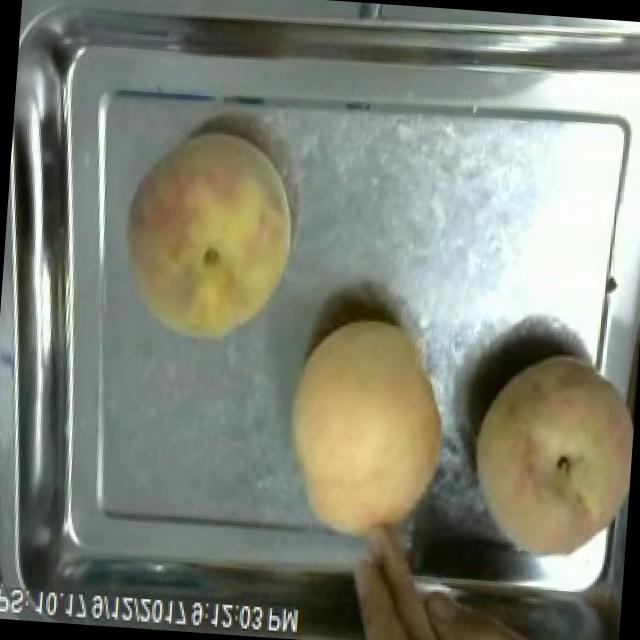Fruit: (270, 305, 467, 550), (446, 340, 638, 588), (108, 120, 307, 356)
